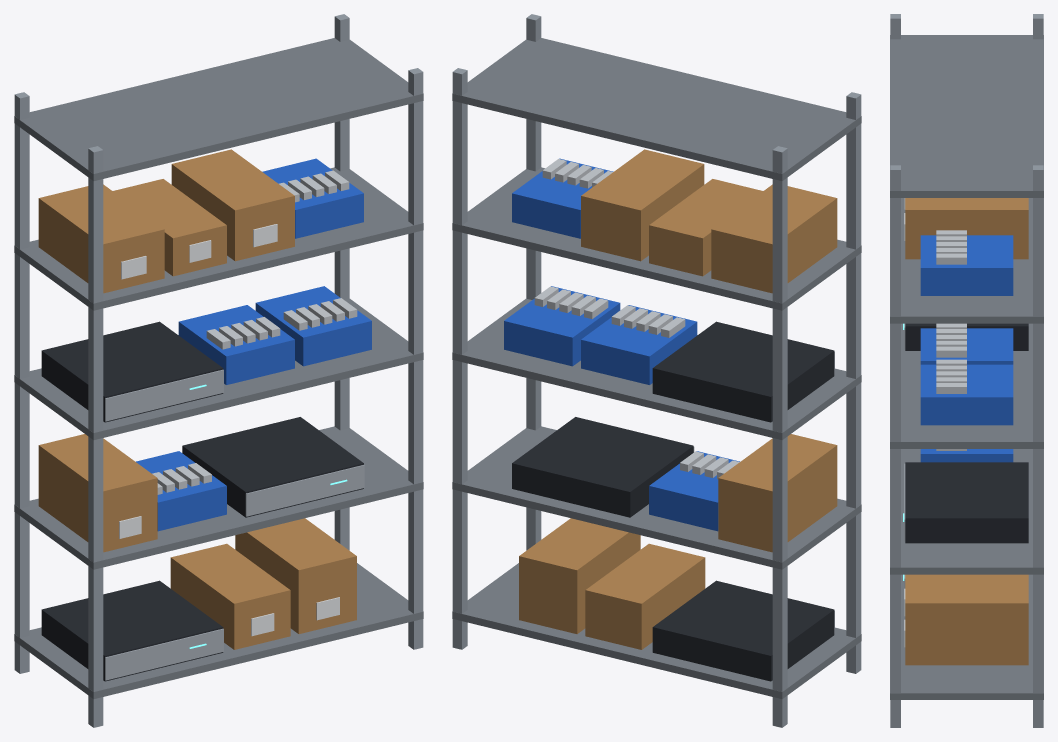
Rendered from 52_Spares_Shelf_Stocked.fbx.
The picture shows the model from 3 angles, left to right: view 1: azimuth 30°, elevation 25°; view 2: azimuth 150°, elevation 25°; view 3: azimuth 270°, elevation 25°; orthographic projection. The views are drawn at different scales.
Visible parts, largest first — view 1: 52_Spares_Shelf_Stocked; view 2: 52_Spares_Shelf_Stocked; view 3: 52_Spares_Shelf_Stocked.
Boxes of the visible parts, x1,y1,x2,y2 form: 52_Spares_Shelf_Stocked: (14, 14, 423, 727); 52_Spares_Shelf_Stocked: (452, 14, 861, 727); 52_Spares_Shelf_Stocked: (890, 14, 1043, 727).
Bounding box in the file's own units: 1.2 × 2 × 0.5.
